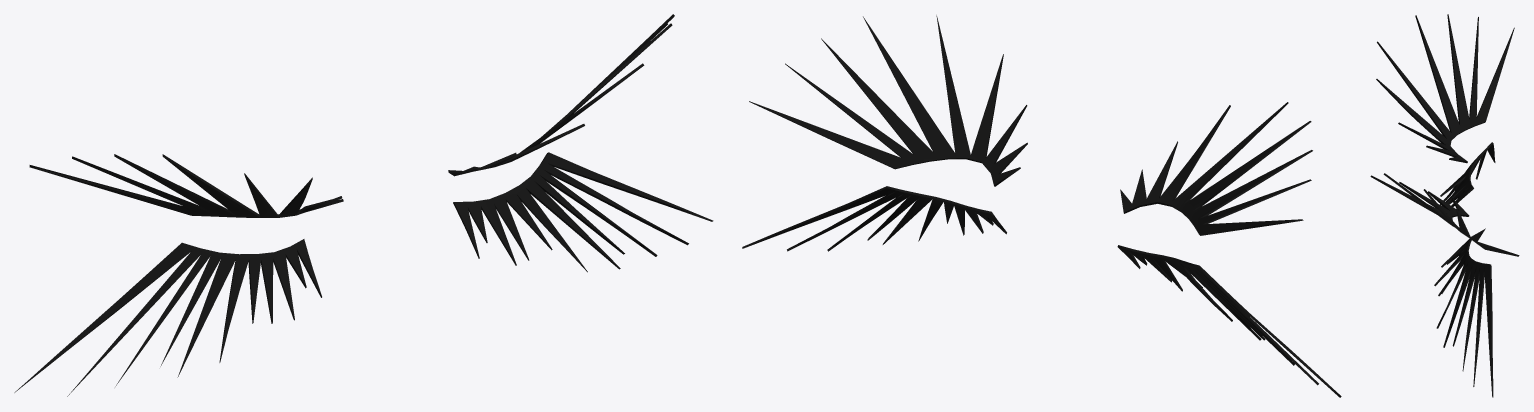
The picture shows the model from 3 angles, left to right: view 1: azimuth 30°, elevation 25°; view 2: azimuth 150°, elevation 25°; view 3: azimuth 270°, elevation 25°; orthographic projection. The views are drawn at different scales.
Parts seen in each view (by area): view 1: Wolf3D_Glasses; view 2: Wolf3D_Glasses; view 3: Wolf3D_Glasses.
Boxes of the visible parts, box(x1,y1,x2,y2) form: Wolf3D_Glasses: box(14, 14, 713, 396); Wolf3D_Glasses: box(742, 15, 1341, 397); Wolf3D_Glasses: box(1370, 14, 1519, 397).
Size of the model in its own units: 0.1935 by 0.0699 by 0.0516.
Materials: 1 (1 with a texture image).
